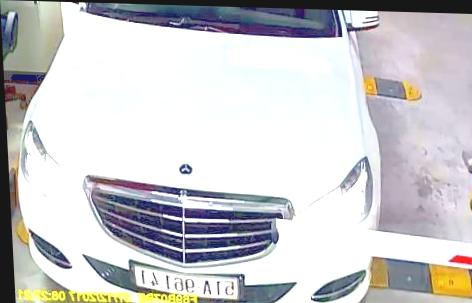License_Plate: (128, 264, 243, 299)
